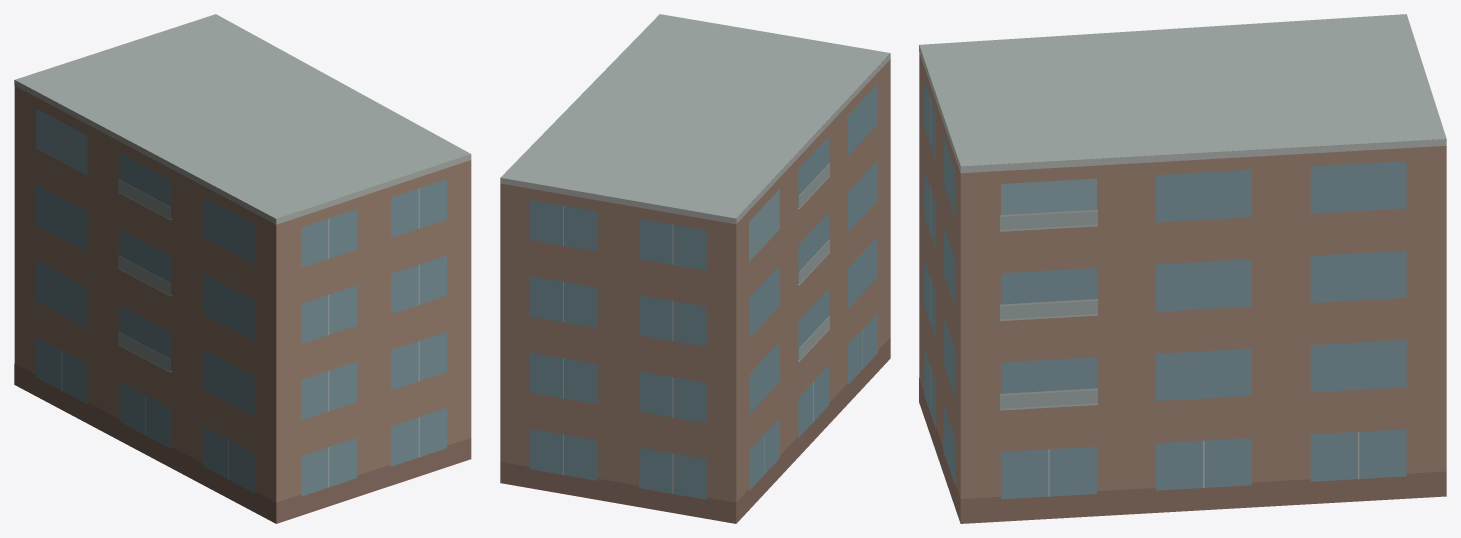
The model's file is survey-upis-32910320.glb.
The picture shows the model from 3 angles, left to right: view 1: azimuth 30°, elevation 25°; view 2: azimuth 150°, elevation 25°; view 3: azimuth 270°, elevation 25°; orthographic projection. The views are drawn at different scales.
Visible parts, largest first — view 1: survey-upis-32910320.tmp; view 2: survey-upis-32910320.tmp; view 3: survey-upis-32910320.tmp.
Part boxes in pixels (x1=…): survey-upis-32910320.tmp: x1=14, y1=14, x2=471, y2=523; survey-upis-32910320.tmp: x1=500, y1=14, x2=890, y2=523; survey-upis-32910320.tmp: x1=919, y1=14, x2=1446, y2=523.
Bounding box in the file's own units: 11.72 × 12.8 × 17.13.
